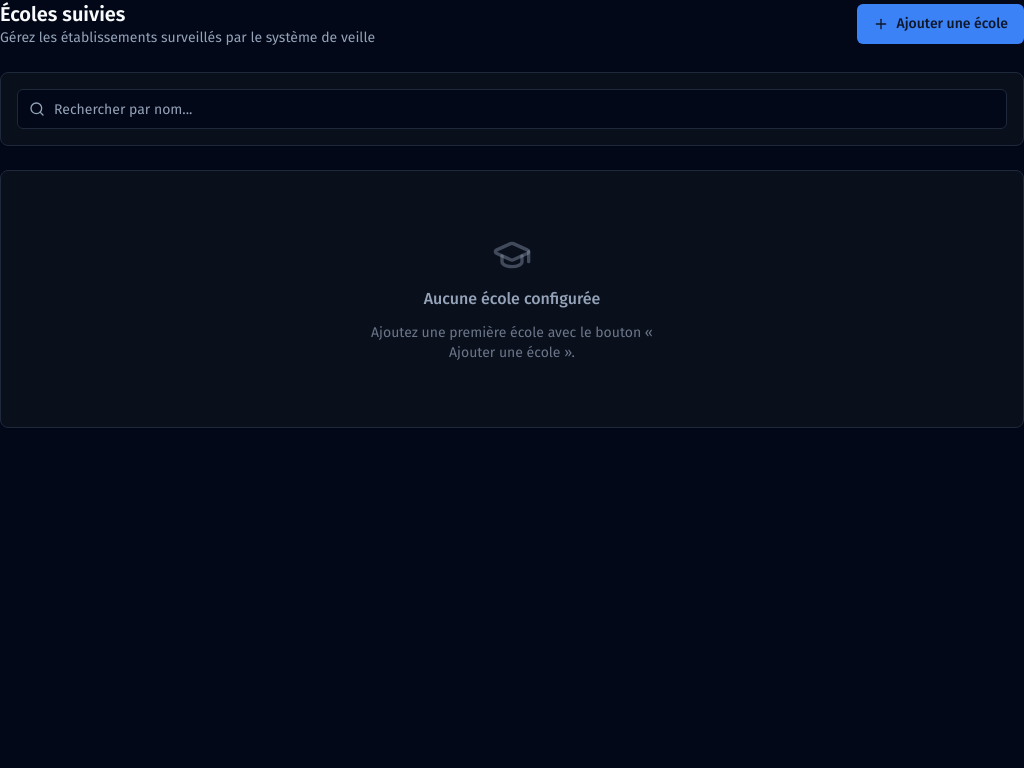
it: SchoolFormDialog › shows error in dialog when testConnection throws ApiError
expect the text "Aucune école configurée" is shown: met, box x1=424 y1=287 x2=600 y2=311
Click the button "Ajouter une école" at {"x": 940, "y": 24}, box x1=856 y1=4 x2=1023 y2=44
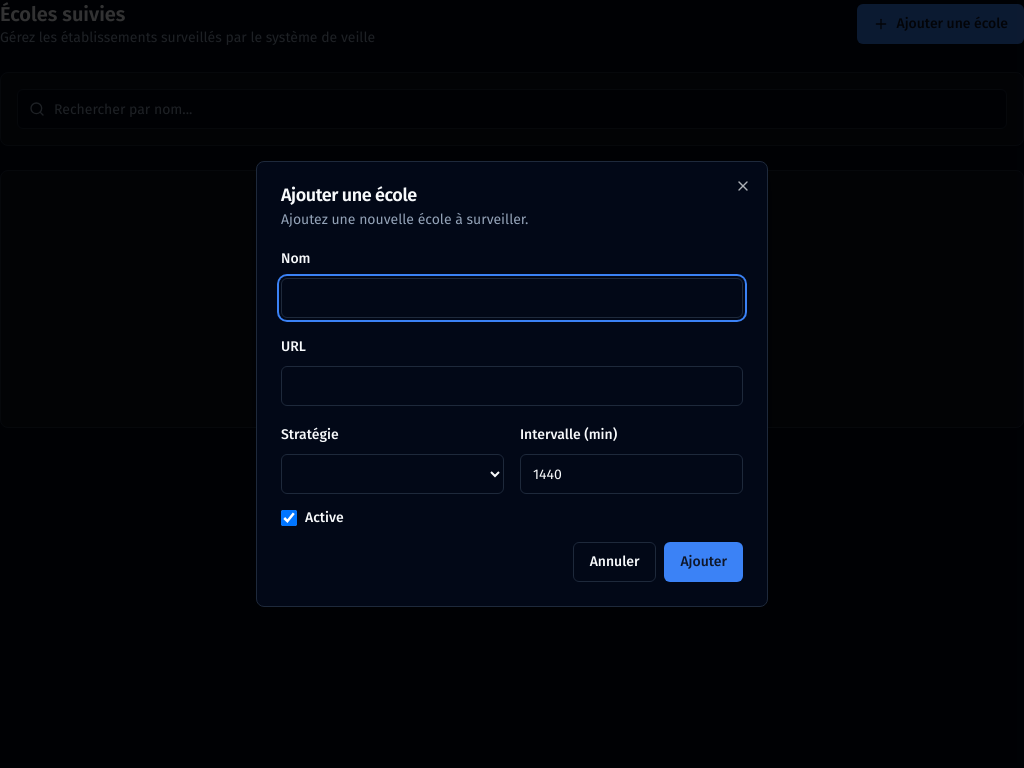
Type "Site KO" into the field labelled "Nom" at {"x": 512, "y": 298}, box x1=281 y1=278 x2=743 y2=318
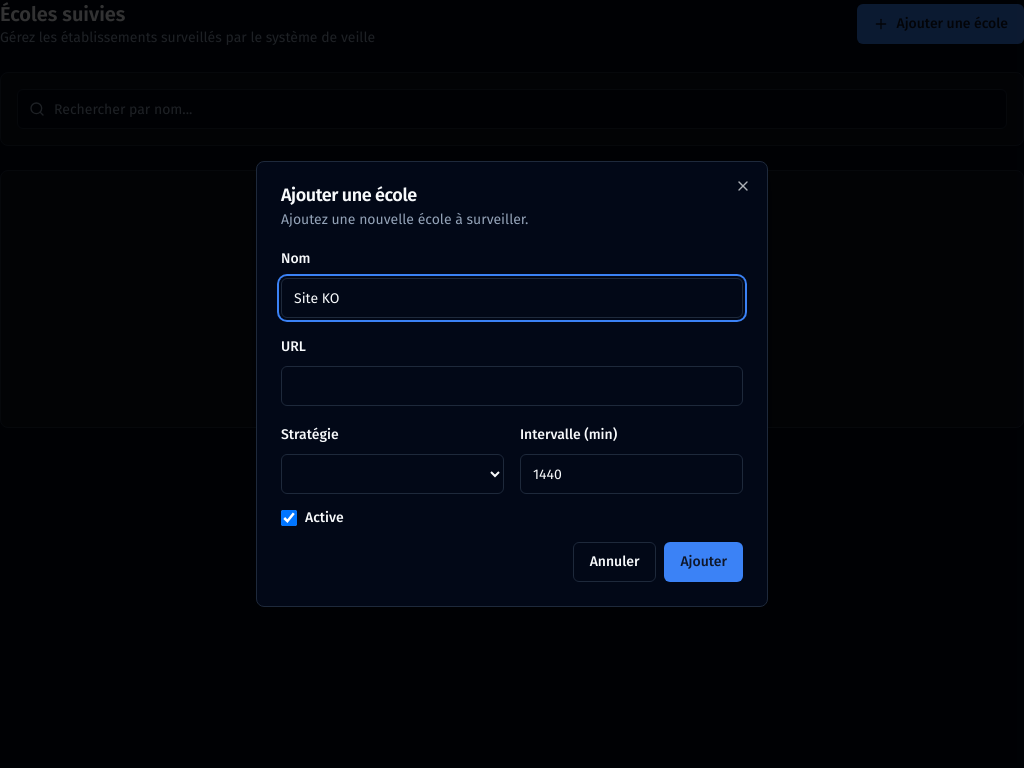
Type "https://ko.example.com" into the field labelled "URL" at {"x": 512, "y": 386}, box x1=281 y1=366 x2=743 y2=406
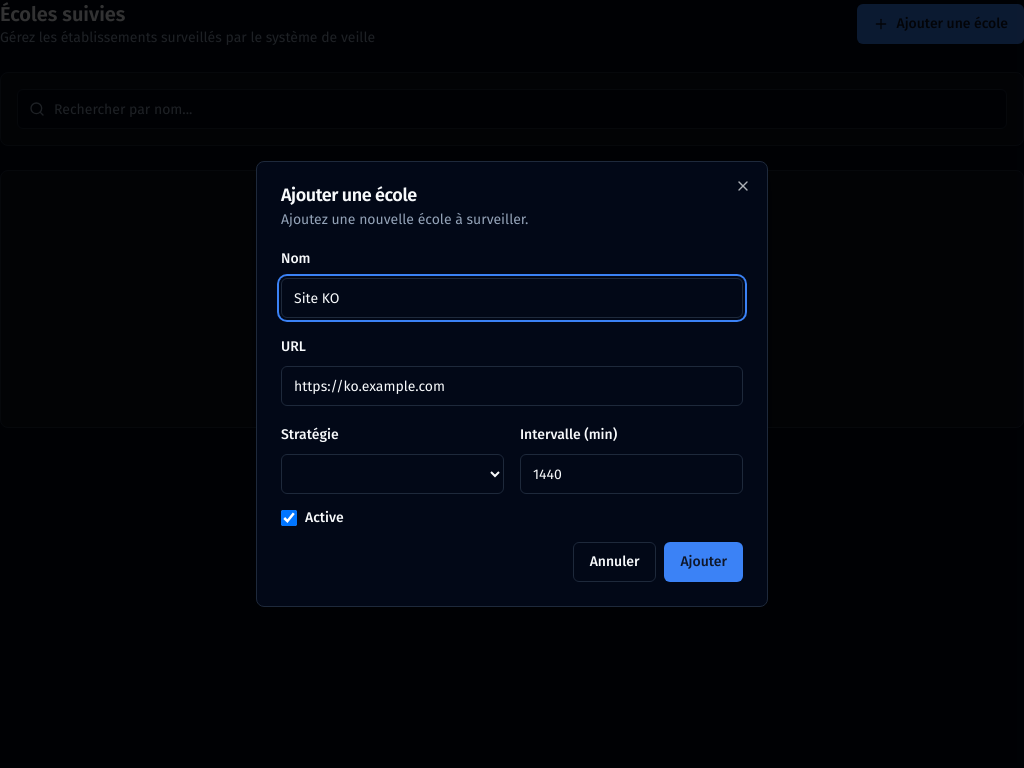
Click the button "Ajouter" at {"x": 704, "y": 562}, box x1=664 y1=542 x2=743 y2=582
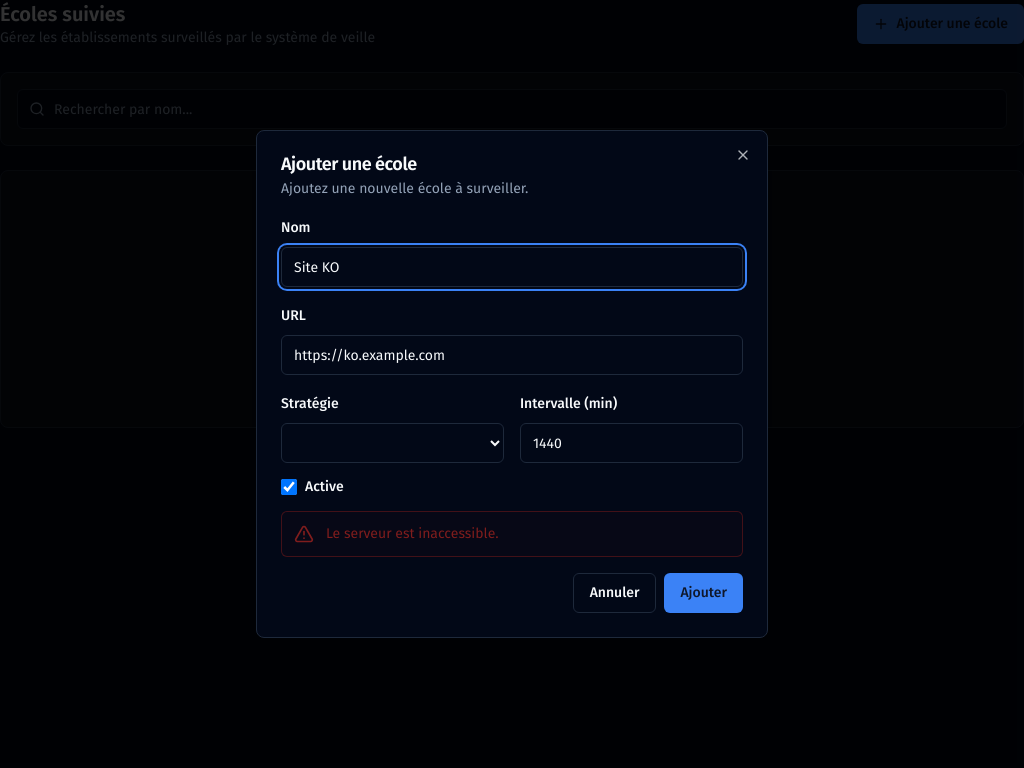
expect the button "Ajouter" is shown: met, box x1=664 y1=573 x2=743 y2=613
expect the text "Le serveur est inaccessible." is shown: met, box x1=326 y1=524 x2=498 y2=544
